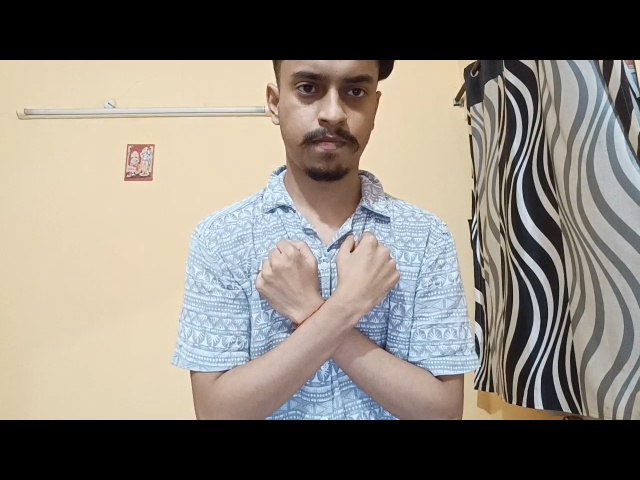Love: (242, 216, 415, 402)
